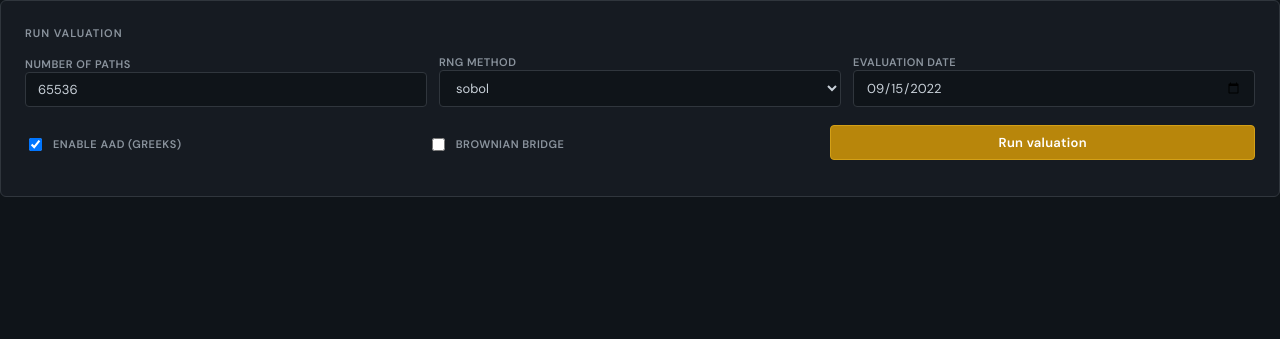
Test: ValuationPanel › clamps the path count to the allowed maximum
This screenshot has width=1280, height=339.
Replace the text in the number field labelled "Number of paths" with "999999999": (226, 90) [25, 72, 427, 107]
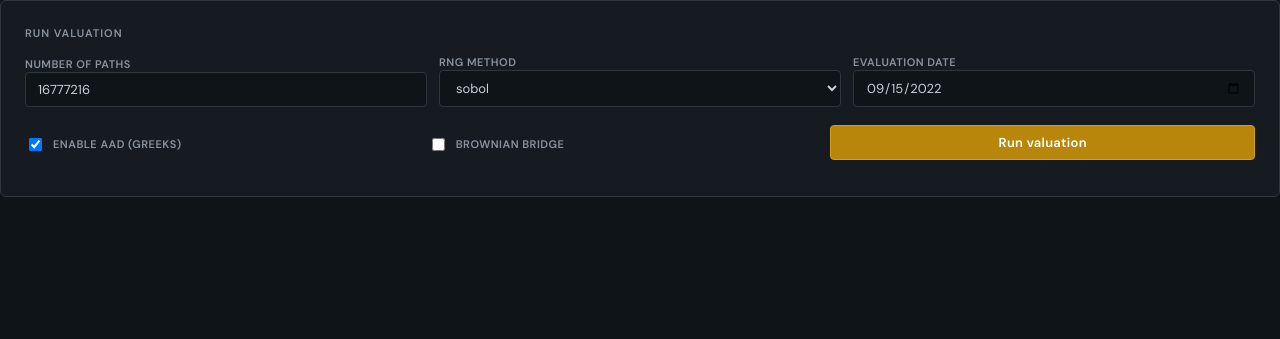
Click the button "Run valuation": click(1043, 142) [830, 125, 1255, 160]
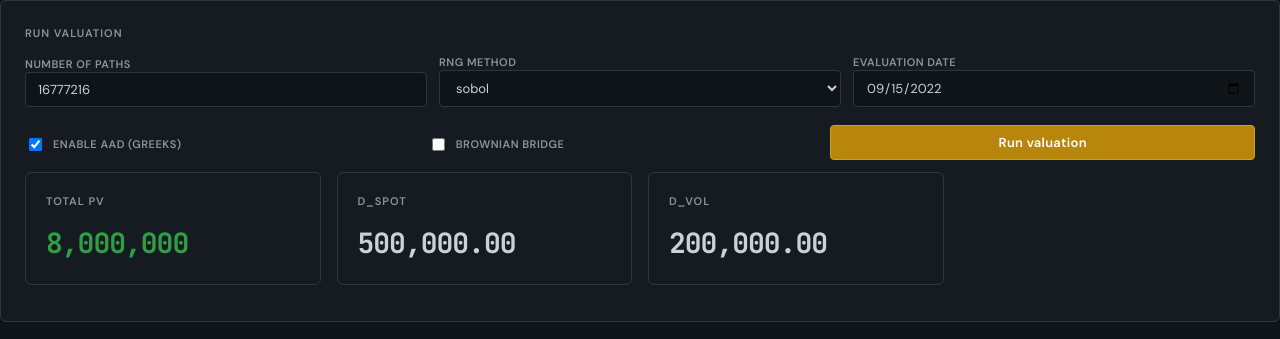
Now the heading "Total PV" is shown, box [46, 194, 105, 208]
